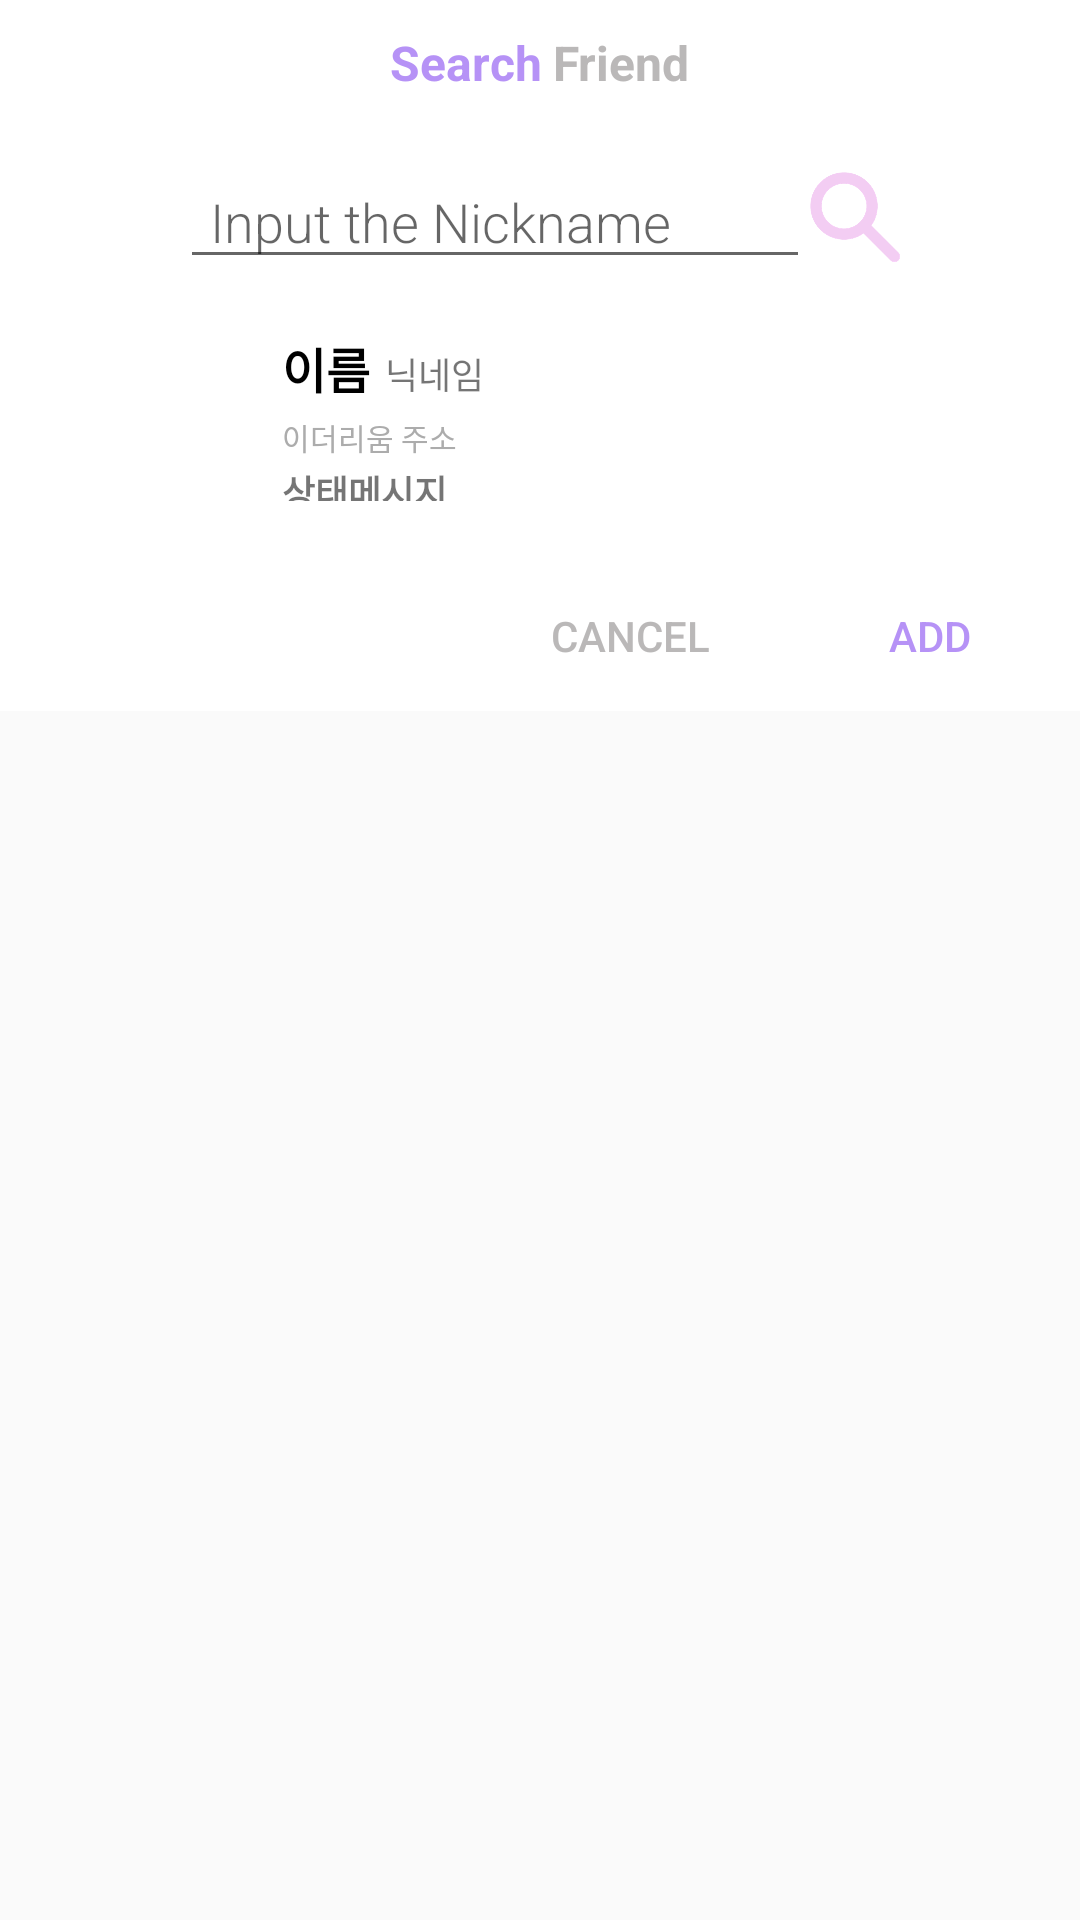

Screen size 1080px×1920px. Icon name, then its center in pixels as [x,y]:
search: [855,217]
